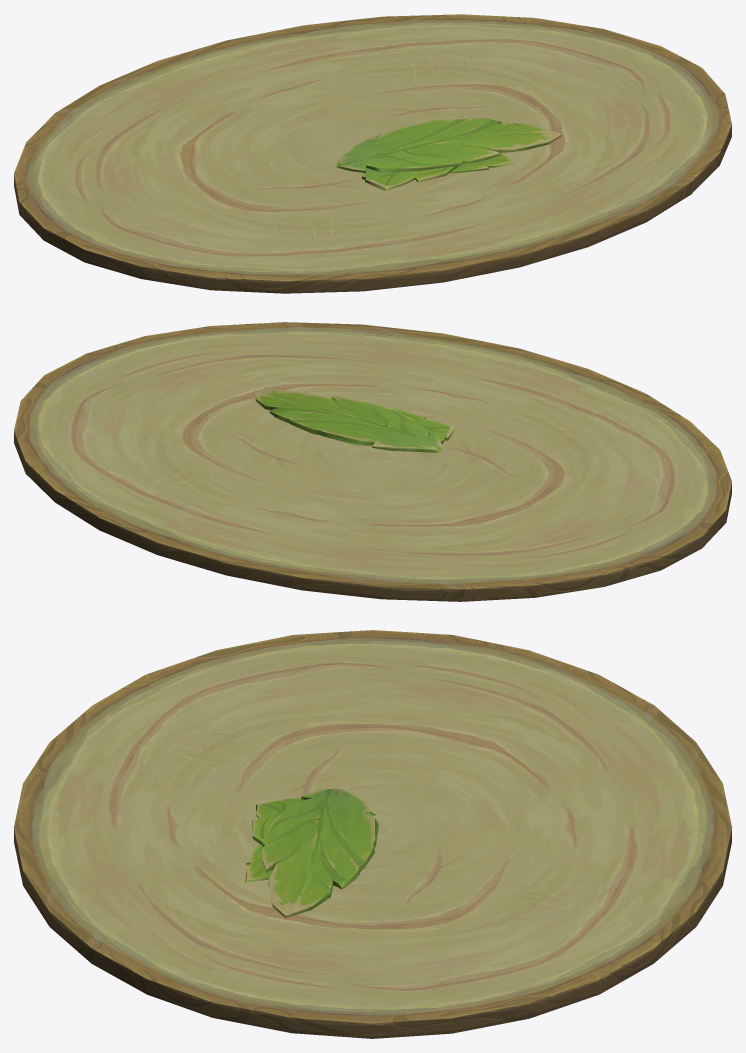
File: Homeworld_Ani_Exterior_Common_Decoration_Prop_WoodAranaraStage_Ground_Vo.fbx
3 renders of one model, top to bottom at view 1: azimuth 30°, elevation 25°; view 2: azimuth 150°, elevation 25°; view 3: azimuth 270°, elevation 25°, orthographic. The views are drawn at different scales.
Parts seen in each view (by area): view 1: Homeworld_Ani_Exterior_Common_Decoration_Prop_WoodAranaraSta; view 2: Homeworld_Ani_Exterior_Common_Decoration_Prop_WoodAranaraSta; view 3: Homeworld_Ani_Exterior_Common_Decoration_Prop_WoodAranaraSta.
Part boxes in pixels (x1,y1,x2,y2): Homeworld_Ani_Exterior_Common_Decoration_Prop_WoodAranaraSta: [14, 14, 731, 293]; Homeworld_Ani_Exterior_Common_Decoration_Prop_WoodAranaraSta: [14, 322, 731, 601]; Homeworld_Ani_Exterior_Common_Decoration_Prop_WoodAranaraSta: [14, 630, 731, 1038].
Bounding box in the file's own units: 6.83 × 0.2509 × 5.27.
